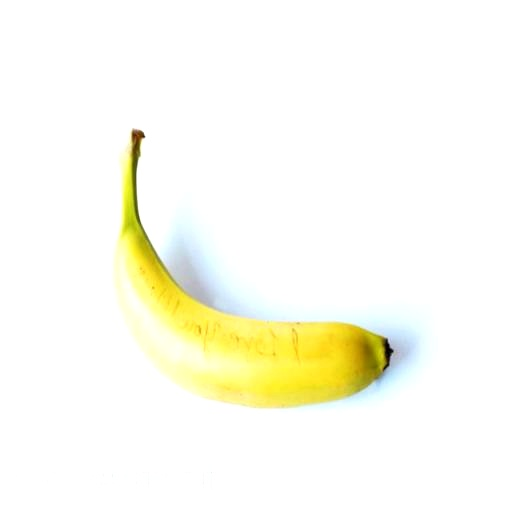fruit: (112, 130, 391, 407)
